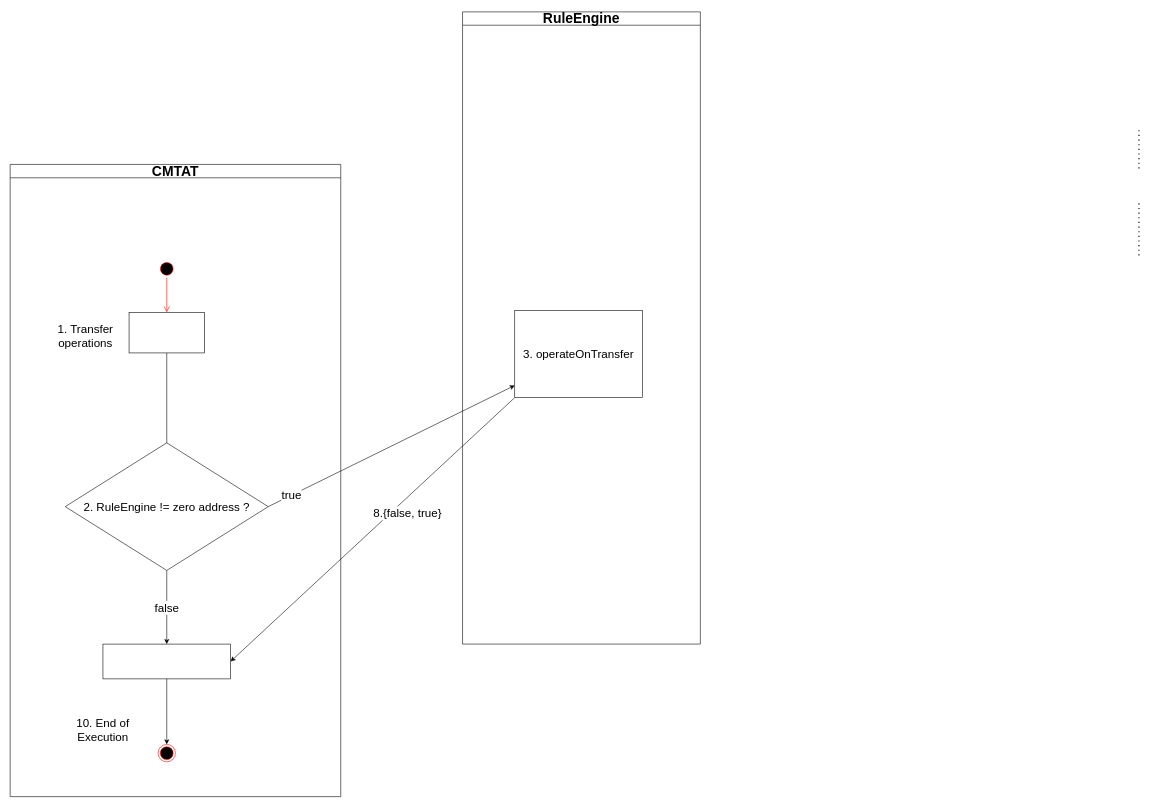
Image size: 1150x807. Some labels were removed from this diagram. The centre of each missing label's shape, as x and y in pixels:
9. Rest of the code: (166,661)
transfer, mint or burn call: (166,332)
